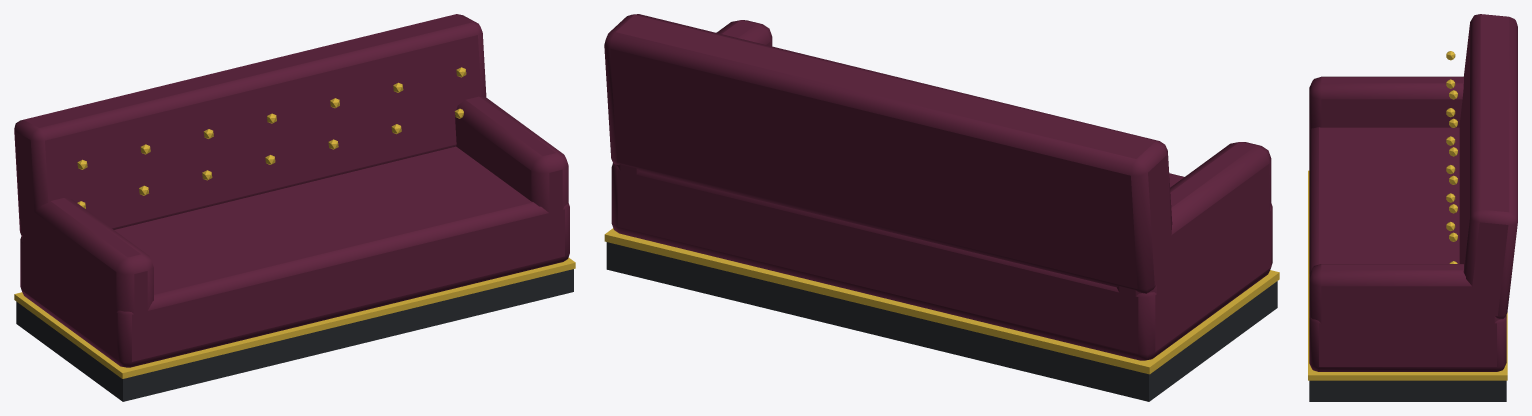
The model's file is lounge_sofa.glb.
The picture shows the model from 3 angles, left to right: view 1: azimuth 30°, elevation 25°; view 2: azimuth 150°, elevation 25°; view 3: azimuth 270°, elevation 25°; orthographic projection. The views are drawn at different scales.
Visible parts, largest first — view 1: lounge_sofa; view 2: lounge_sofa; view 3: lounge_sofa.
Part boxes in pixels (<box>): lounge_sofa: <box>14,14,575,401</box>; lounge_sofa: <box>604,14,1279,401</box>; lounge_sofa: <box>1308,14,1517,401</box>.
Size of the model in its own units: 2.01 by 0.8635 by 0.8725.
